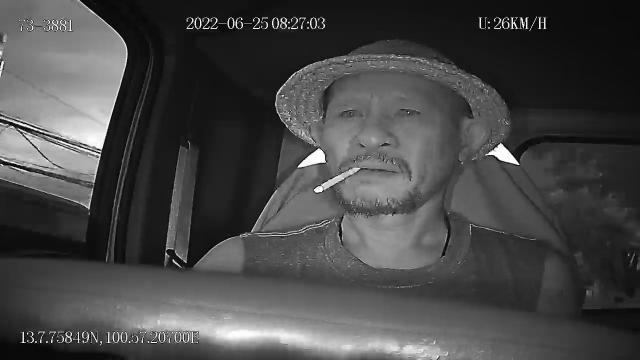SafeDriving: (388, 98, 427, 124), (330, 100, 368, 125)
Smoking: (313, 168, 359, 194)
